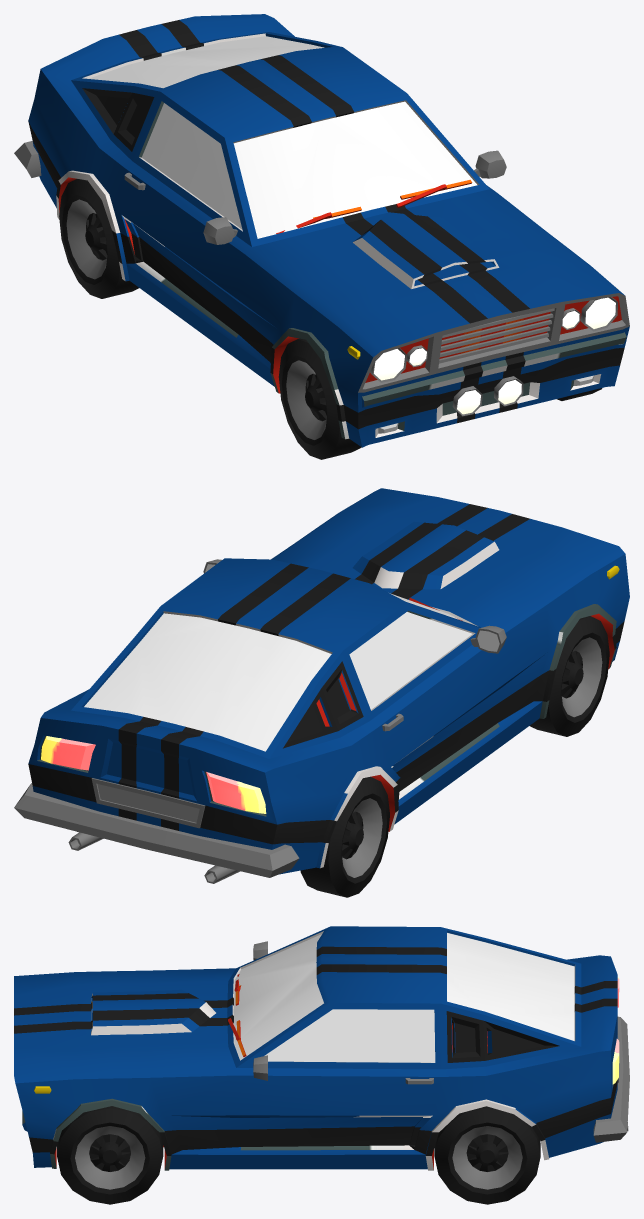
Rendered from CoinracerGTWithTyres.fbx.
3 views of the same model, one above another, from view 1: azimuth 30°, elevation 25°; view 2: azimuth 150°, elevation 25°; view 3: azimuth 270°, elevation 25° (orthographic). The views are drawn at different scales.
Visible parts, largest first — view 1: CoinracerGT, CoinracerGT-WheelFR, CoinracerGT-WheelBR; view 2: CoinracerGT, CoinracerGT-WheelBR, CoinracerGT-WheelFR; view 3: CoinracerGT, CoinracerGT-WheelFL, CoinracerGT-WheelBL.
Boxes of the visible parts, x1,y1,x2,y2 form: CoinracerGT: (14, 14, 629, 447); CoinracerGT-WheelFR: (278, 338, 361, 459); CoinracerGT-WheelBR: (59, 179, 138, 298); CoinracerGT: (14, 488, 629, 883); CoinracerGT-WheelBR: (300, 776, 389, 897); CoinracerGT-WheelFR: (530, 616, 609, 736); CoinracerGT: (14, 926, 629, 1170); CoinracerGT-WheelFL: (57, 1106, 163, 1204); CoinracerGT-WheelBL: (434, 1106, 540, 1204).
Size of the model in its own units: 154 by 109 by 321.
